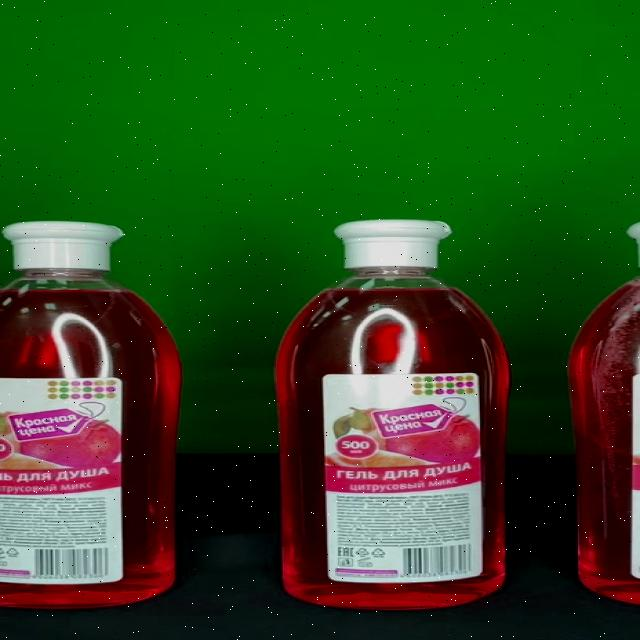Bottle: (274, 220, 510, 610), (0, 221, 181, 609)
Cap: (0, 222, 126, 270), (332, 220, 452, 268)
